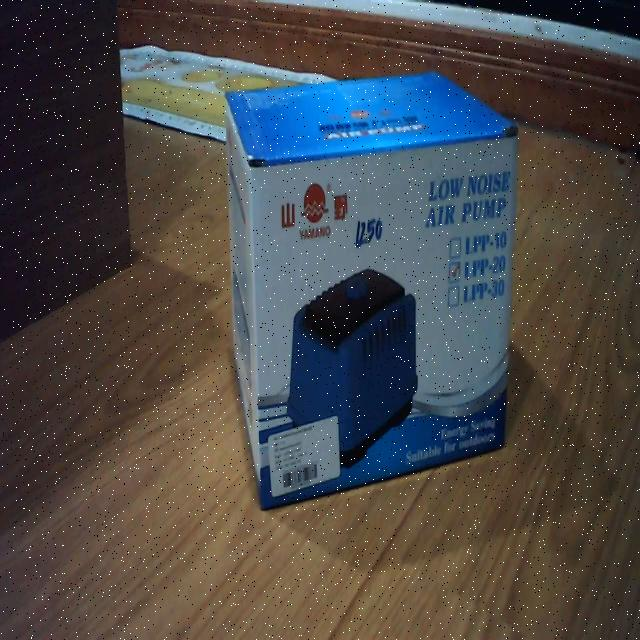YAMANO_LPP_20: (216, 60, 530, 526)
